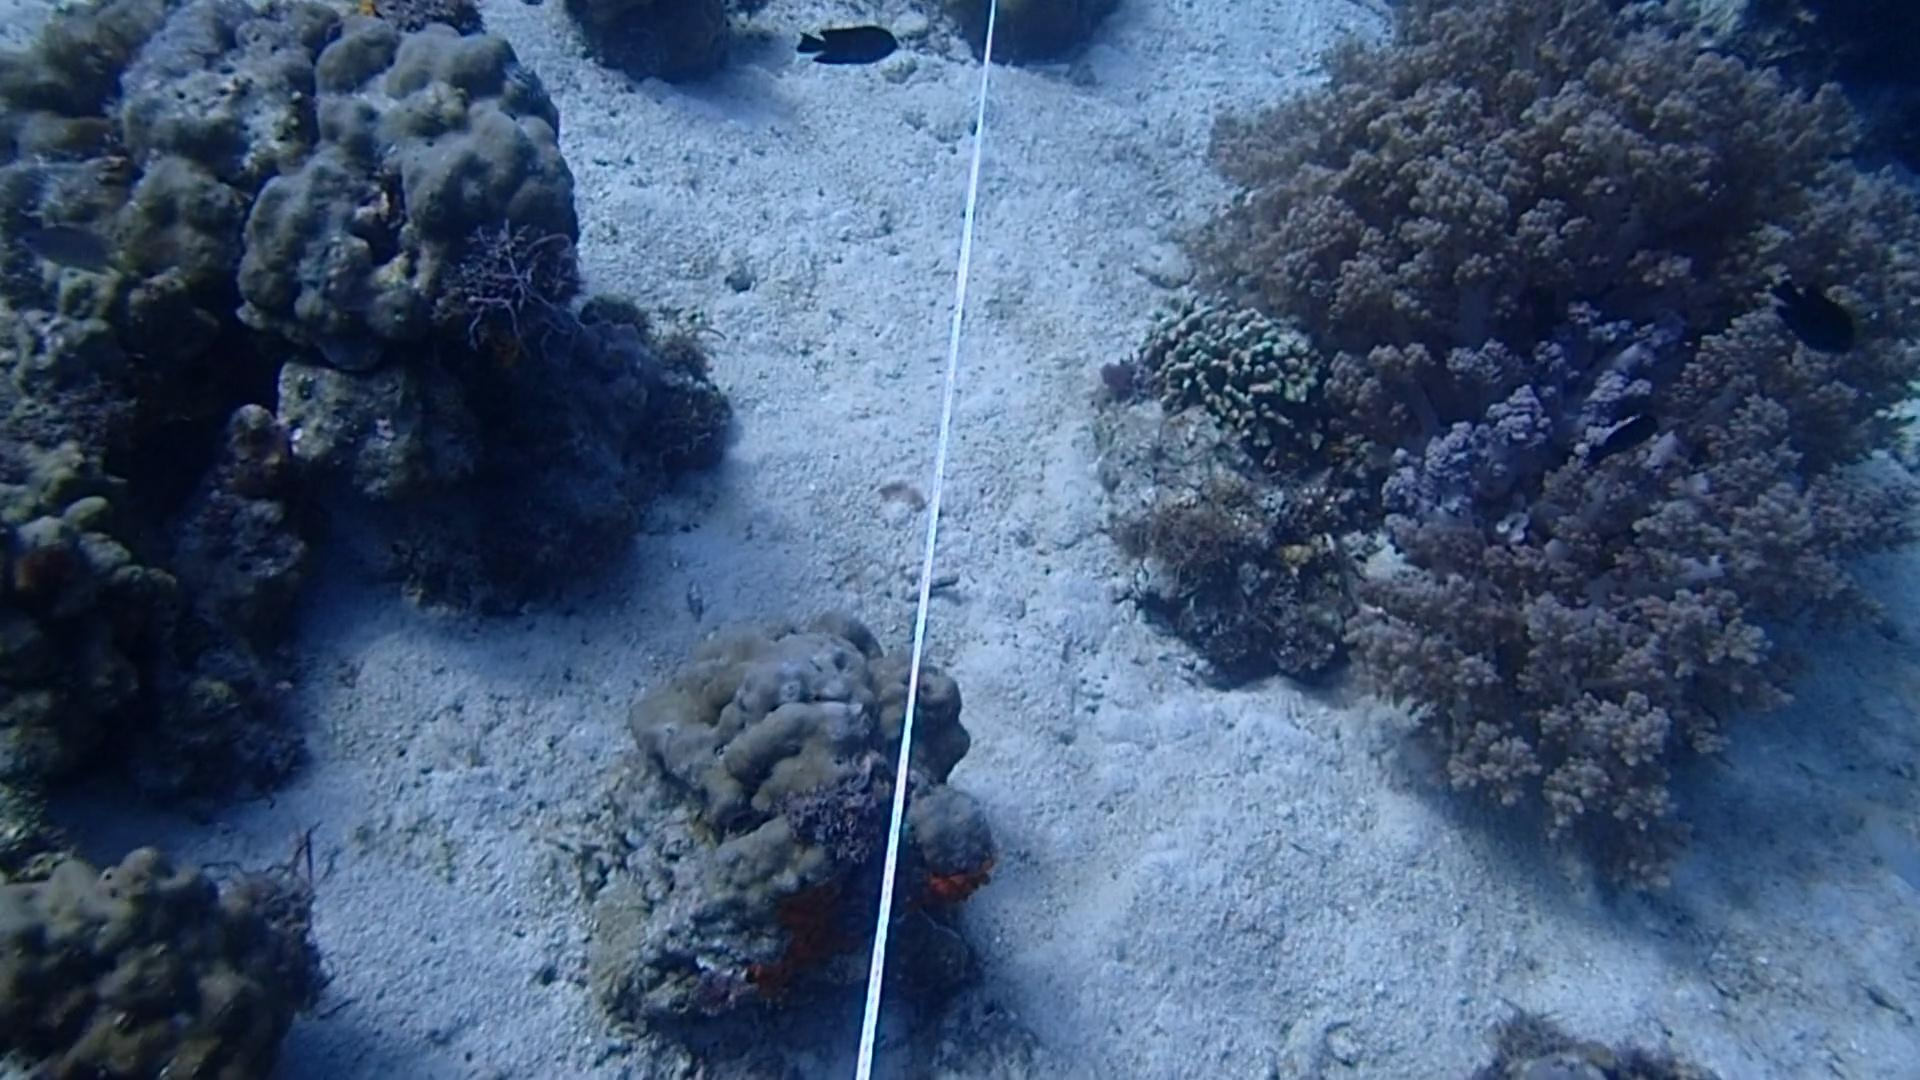Dark Fish: (1762, 264, 1865, 361), (786, 20, 906, 74), (1571, 406, 1662, 467)
